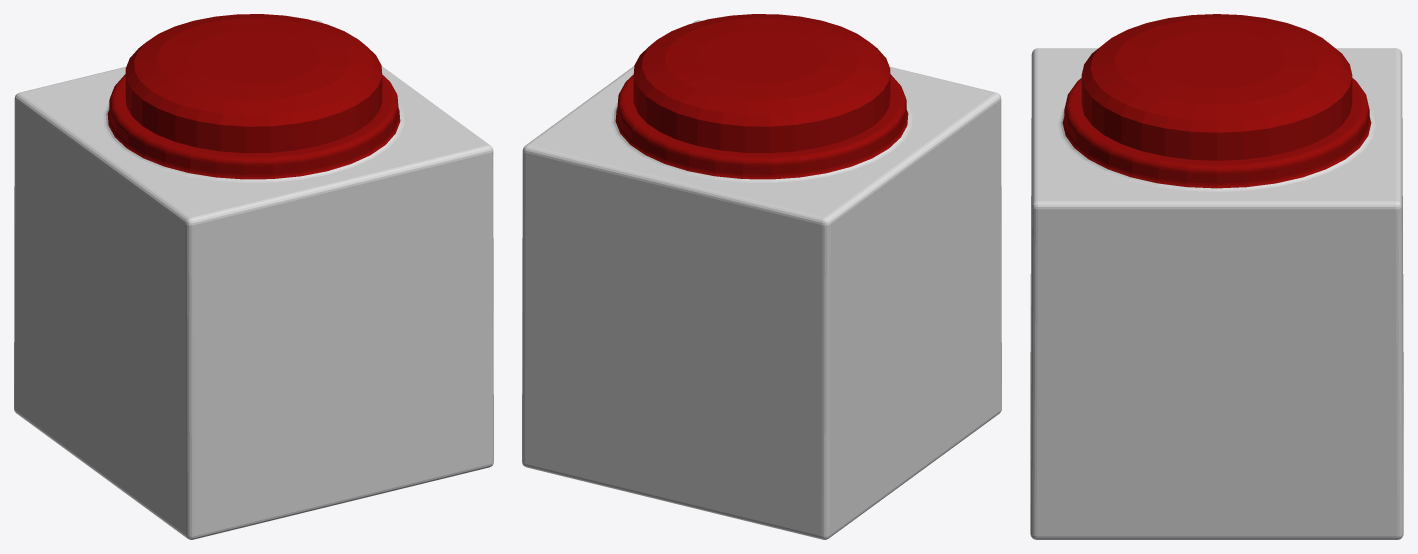
Rendered from ButtonBot_Basic_Static_Body.fbx.
The picture shows the model from 3 angles, left to right: view 1: azimuth 30°, elevation 25°; view 2: azimuth 150°, elevation 25°; view 3: azimuth 270°, elevation 25°; orthographic projection. The views are drawn at different scales.
Parts seen in each view (by area): view 1: Cube.002, Button.001; view 2: Cube.002, Button.001; view 3: Cube.002, Button.001.
Boxes of the visible parts, x1,y1,x2,y2 form: Cube.002: [14, 20, 493, 539]; Button.001: [125, 14, 382, 153]; Cube.002: [522, 20, 1001, 539]; Button.001: [633, 14, 890, 153]; Cube.002: [1030, 48, 1403, 539]; Button.001: [1081, 14, 1352, 160].
Bounding box in the file's own units: 200 × 200 × 239.
